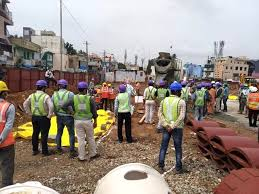arm: (0, 103, 16, 146), (172, 98, 187, 128), (157, 98, 167, 129), (22, 92, 33, 120), (89, 94, 98, 125), (45, 93, 54, 121), (128, 92, 136, 115), (112, 93, 119, 116)
footwear: (40, 147, 53, 155), (156, 162, 166, 172), (88, 151, 100, 159), (174, 163, 184, 172), (30, 144, 39, 154), (67, 149, 78, 157), (125, 136, 134, 143), (115, 136, 123, 143), (149, 119, 155, 124), (247, 121, 253, 126)
glove: (91, 116, 97, 127)
helmet: (0, 177, 57, 193), (168, 79, 183, 92), (33, 77, 48, 87), (0, 77, 10, 92), (56, 76, 69, 87), (75, 79, 88, 89), (146, 77, 155, 85), (248, 84, 257, 91)
human: (204, 132, 258, 194), (155, 78, 189, 173), (23, 75, 55, 155), (70, 77, 100, 160), (0, 76, 18, 186), (50, 74, 75, 152), (112, 79, 136, 143), (139, 76, 160, 126), (244, 82, 258, 125), (218, 81, 229, 111)
leg: (172, 128, 187, 173), (155, 128, 170, 172), (0, 146, 16, 186), (83, 120, 98, 159), (73, 120, 86, 159), (39, 118, 51, 155), (29, 118, 40, 154), (53, 117, 64, 151), (124, 112, 134, 143), (115, 112, 124, 143), (137, 102, 149, 125), (148, 101, 156, 125), (246, 108, 253, 126), (252, 109, 258, 126), (221, 97, 227, 111)
nohelmet: (116, 81, 127, 91)
novest: (160, 95, 186, 128), (115, 90, 132, 113)
vest: (215, 166, 258, 194), (0, 96, 15, 147), (28, 89, 52, 120), (52, 87, 74, 117), (72, 92, 94, 120), (143, 85, 158, 104), (247, 90, 258, 108)
